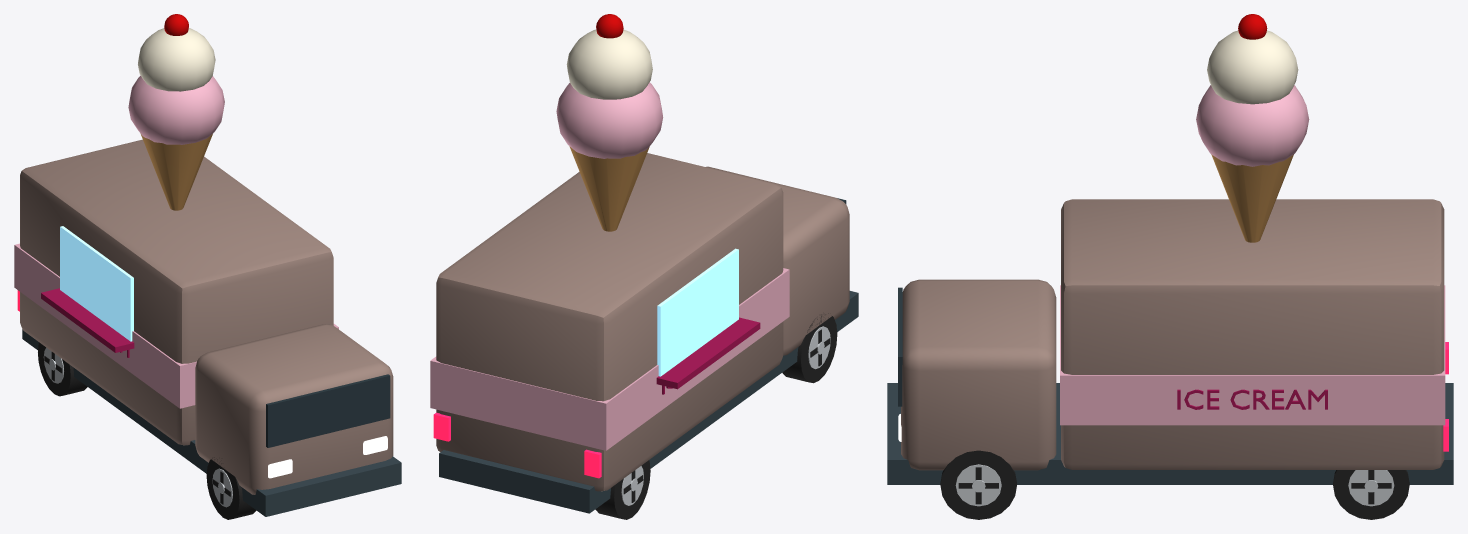
File: journey_icecream.glb
The picture shows the model from 3 angles, left to right: view 1: azimuth 30°, elevation 25°; view 2: azimuth 150°, elevation 25°; view 3: azimuth 270°, elevation 25°; orthographic projection. The views are drawn at different scales.
Visible parts, largest first — view 1: IceCream_body, Wheel_FR.001, Wheel_RR.001; view 2: IceCream_body, Wheel_FR.001, Wheel_RR.001; view 3: IceCream_body, Wheel_FL.001, Wheel_RL.001.
Part boxes in pixels (bbox=[...]): IceCream_body: bbox=[14, 14, 401, 516]; Wheel_FR.001: bbox=[206, 457, 256, 519]; Wheel_RR.001: bbox=[38, 342, 87, 396]; IceCream_body: bbox=[430, 14, 858, 513]; Wheel_FR.001: bbox=[782, 313, 837, 383]; Wheel_RR.001: bbox=[595, 460, 650, 519]; IceCream_body: bbox=[887, 14, 1453, 484]; Wheel_FL.001: bbox=[940, 450, 1016, 519]; Wheel_RL.001: bbox=[1333, 470, 1409, 519].
Size of the model in its own units: 2.64 by 5.61 by 6.2.
